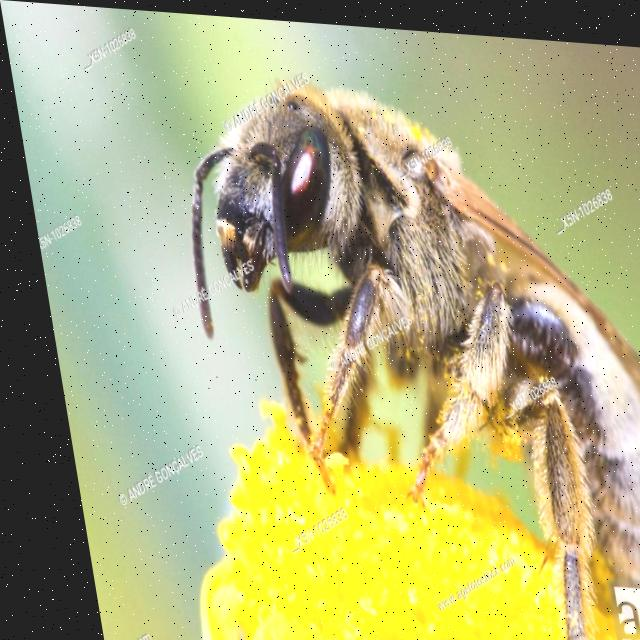Braunsapis: (151, 49, 640, 640)
